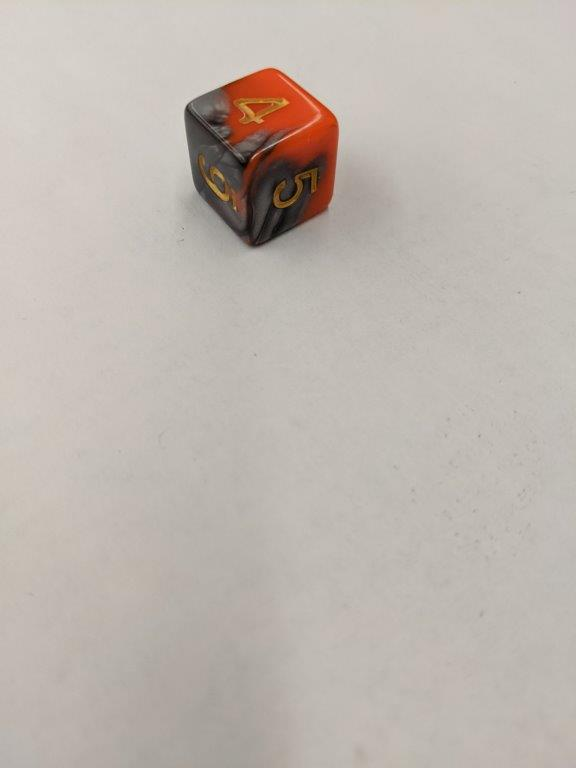d6-4: (183, 67, 342, 249)
